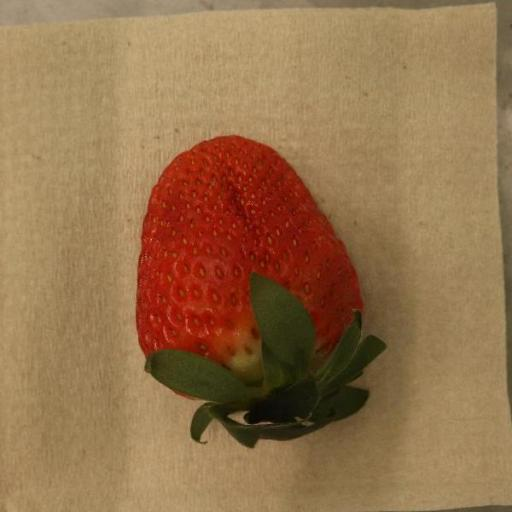Strawberry: (136, 136, 386, 450)
